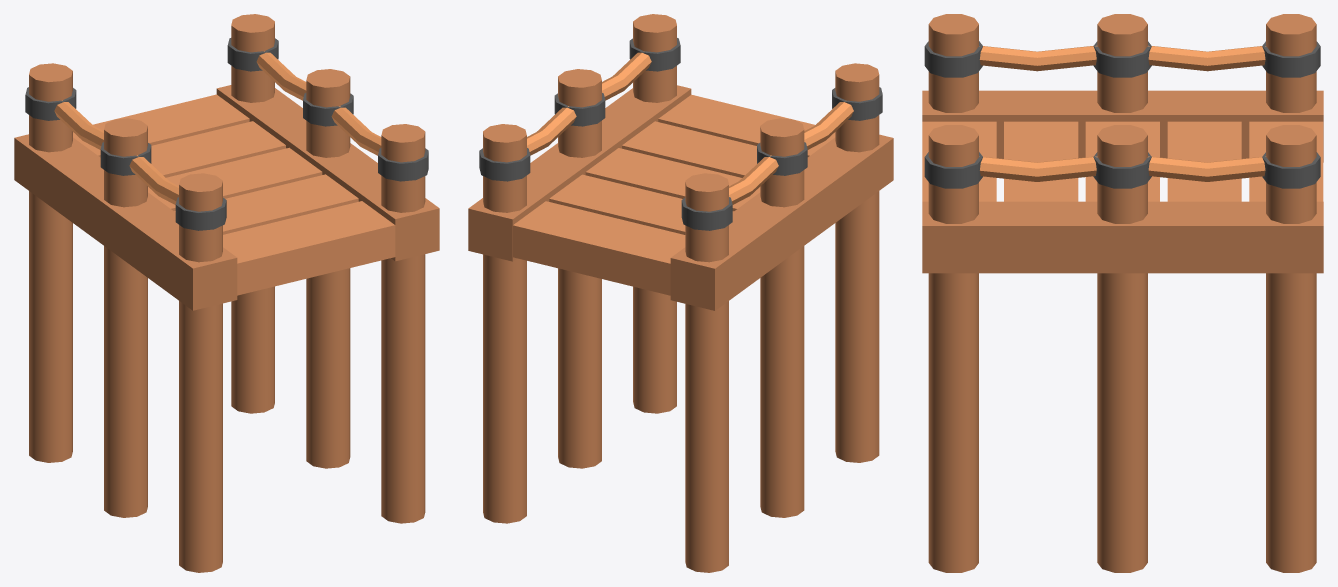
Rendered from Bridge.fbx.
3 views of the same model, side by side, from view 1: azimuth 30°, elevation 25°; view 2: azimuth 150°, elevation 25°; view 3: azimuth 270°, elevation 25° (orthographic). The views are drawn at different scales.
Visible parts, largest first — view 1: Bridge; view 2: Bridge; view 3: Bridge.
Boxes of the visible parts, box(x1,y1,x2,y2) form: Bridge: box(14, 14, 439, 572); Bridge: box(468, 14, 893, 572); Bridge: box(922, 14, 1323, 572).
Bounding box in the file's own units: 239 × 353 × 300.
